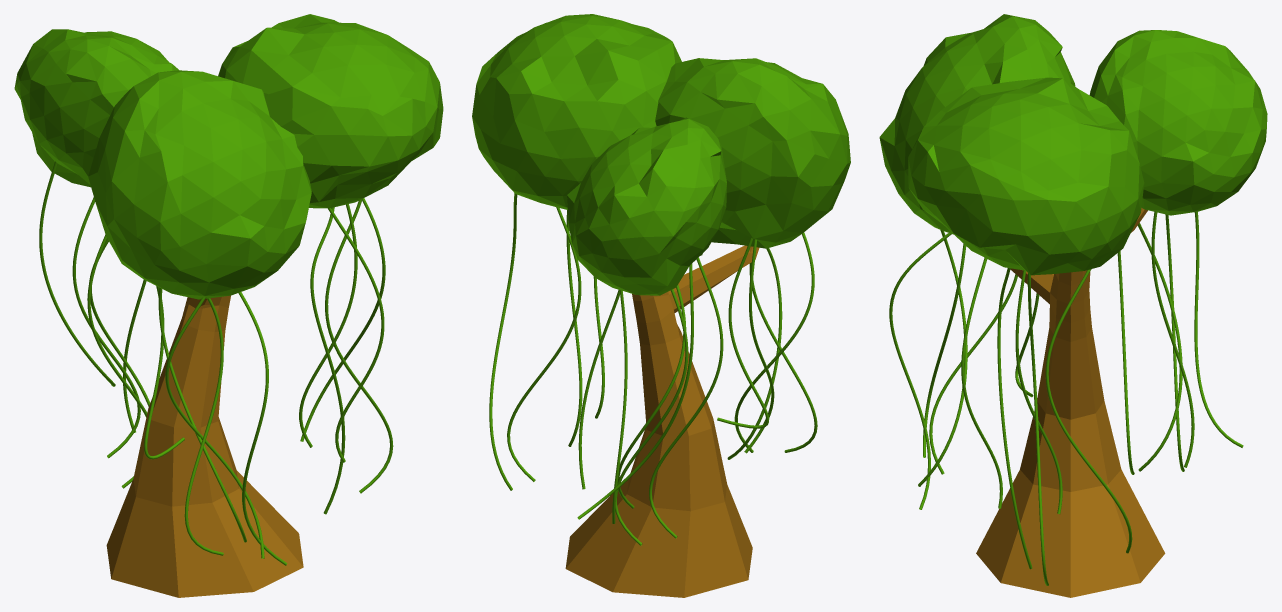
Rendered from Arbre_marais.fbx.
3 views of the same model, side by side, from view 1: azimuth 30°, elevation 25°; view 2: azimuth 150°, elevation 25°; view 3: azimuth 270°, elevation 25° (orthographic). The views are drawn at different scales.
Visible parts, largest first — view 1: Cube; view 2: Cube; view 3: Cube.
Part boxes in pixels (box(x1,y1,x2,y2)): Cube: box(14, 14, 443, 597); Cube: box(472, 14, 850, 597); Cube: box(879, 14, 1267, 597).
Bounding box in the file's own units: 510 × 724 × 507.
